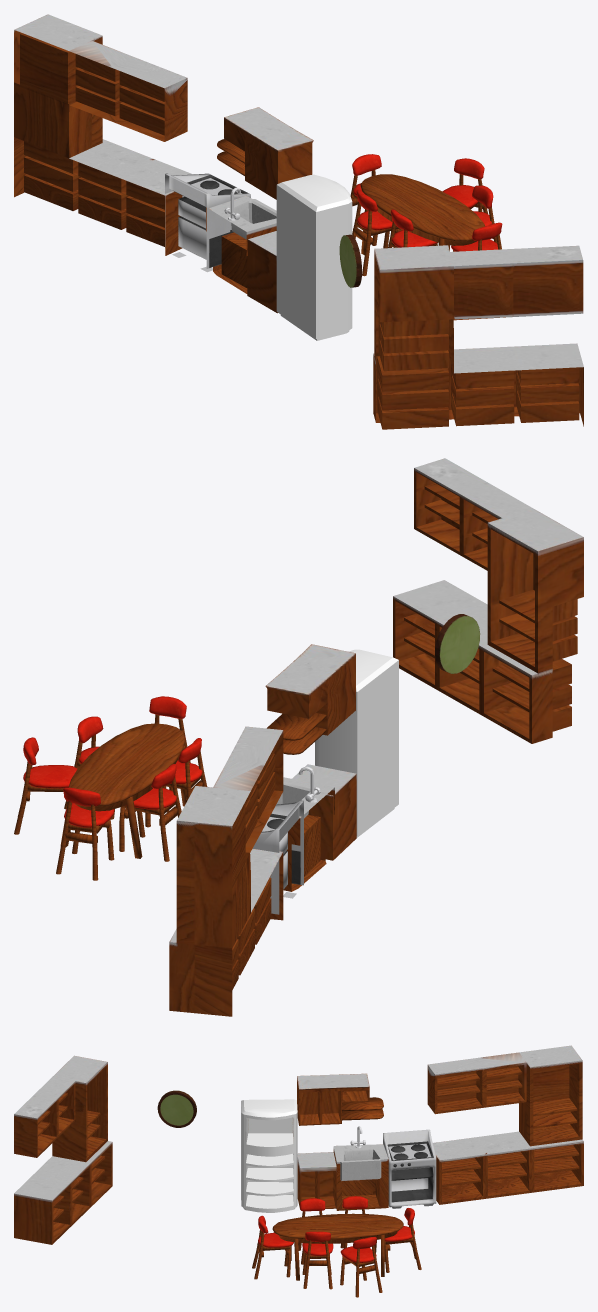
The model's file is mesh_70_kitchen_1.glb.
3 views of the same model, one above another, from view 1: azimuth 30°, elevation 25°; view 2: azimuth 150°, elevation 25°; view 3: azimuth 270°, elevation 25° (orthographic). The views are drawn at different scales.
Visible parts, largest first — view 1: mesh_70_kitchen_1; view 2: mesh_70_kitchen_1; view 3: mesh_70_kitchen_1.
Part boxes in pixels (<box>): mesh_70_kitchen_1: <box>14,14,583,429</box>; mesh_70_kitchen_1: <box>14,458,583,1016</box>; mesh_70_kitchen_1: <box>14,1045,583,1297</box>.
Bounding box in the file's own units: 4.97 × 2.55 × 9.98.
1 material, 1 textured.
